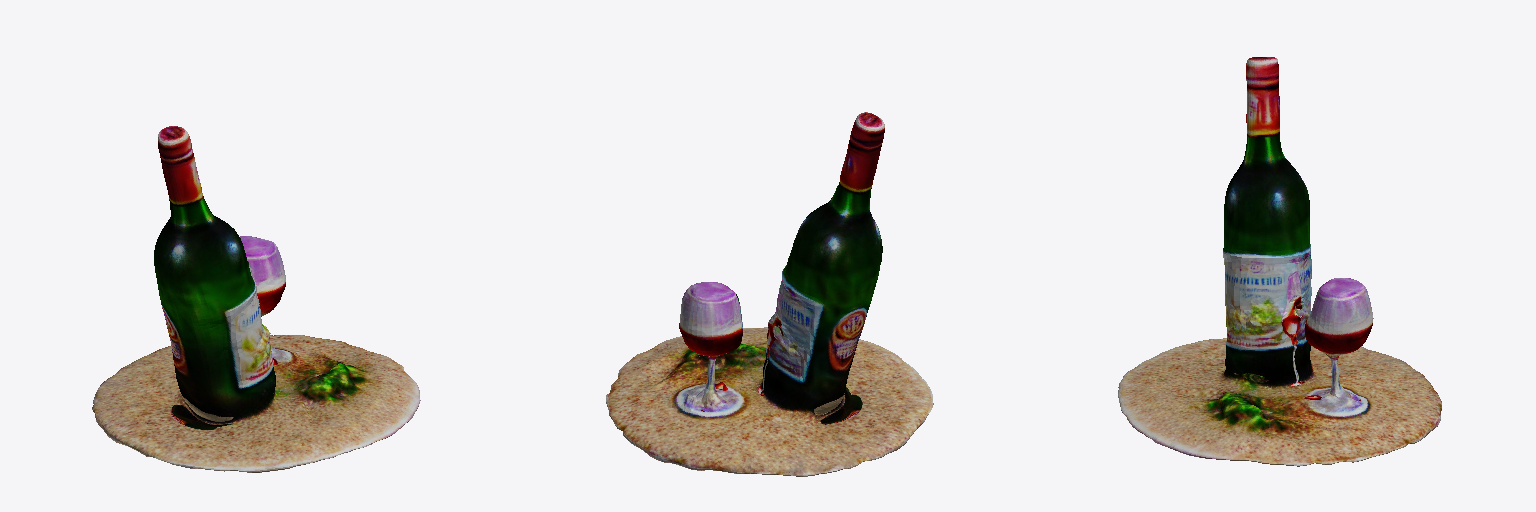
The picture shows the model from 3 angles: view 1: azimuth 30°, elevation 25°; view 2: azimuth 150°, elevation 25°; view 3: azimuth 270°, elevation 25°; orthographic projection.
Visible parts, largest first — view 1: mesh; view 2: mesh; view 3: mesh.
Boxes of the visible parts, x1=… form: mesh: x1=92, y1=126, x2=420, y2=472; mesh: x1=606, y1=112, x2=933, y2=476; mesh: x1=1118, y1=57, x2=1441, y2=466.
Bounding box in the file's own units: 0.9385 × 0.9966 × 0.9444.
1 materials, 1 textured.